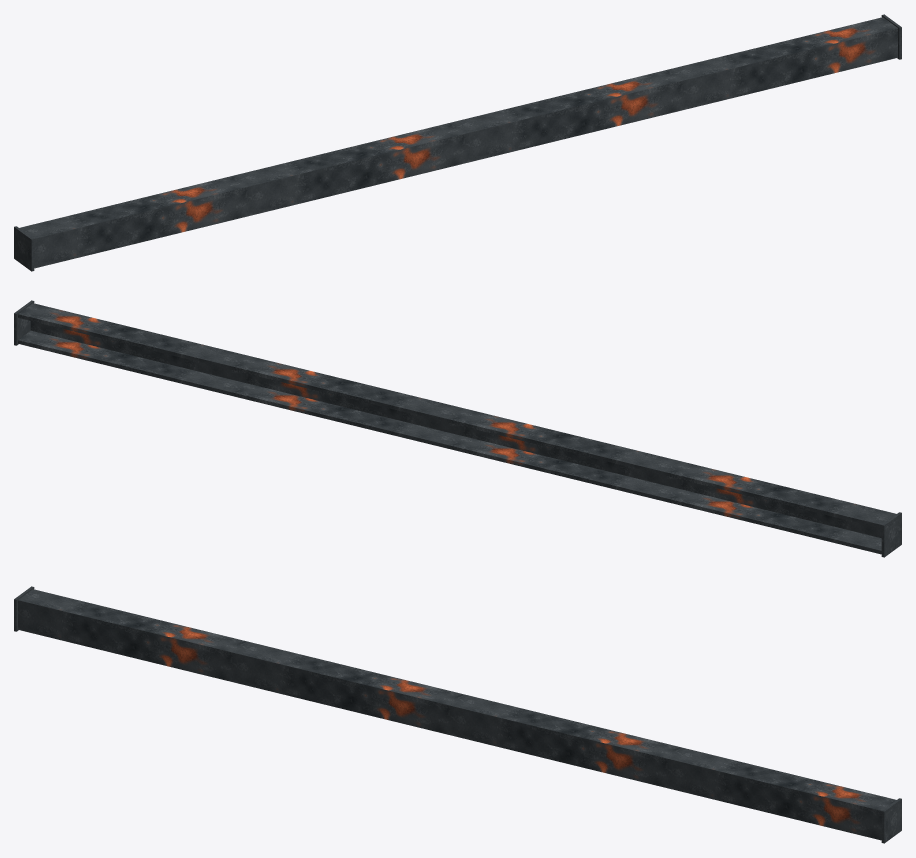
Rendered from SUPPORT_C_GIRT_4000.glb.
3 renders of one model, top to bottom at view 1: azimuth 30°, elevation 25°; view 2: azimuth 150°, elevation 25°; view 3: azimuth 330°, elevation 25°, orthographic.
Visible parts, largest first — view 1: SUPPORT_C_GIRT_4000__CChannel_4000, SUPPORT_C_GIRT_4000__EndCap_Left; view 2: SUPPORT_C_GIRT_4000__CChannel_4000, SUPPORT_C_GIRT_4000__EndCap_Left; view 3: SUPPORT_C_GIRT_4000__CChannel_4000, SUPPORT_C_GIRT_4000__EndCap_Right.
Part boxes in pixels (x1,y1,x2,y2): SUPPORT_C_GIRT_4000__CChannel_4000: [15, 17, 897, 268]; SUPPORT_C_GIRT_4000__EndCap_Left: [14, 226, 34, 271]; SUPPORT_C_GIRT_4000__CChannel_4000: [18, 303, 900, 554]; SUPPORT_C_GIRT_4000__EndCap_Left: [881, 512, 901, 557]; SUPPORT_C_GIRT_4000__CChannel_4000: [18, 589, 899, 840]; SUPPORT_C_GIRT_4000__EndCap_Right: [881, 798, 901, 843].
Size of the model in its own units: 4 by 0.14 by 0.14.
Materials: 1 (1 with a texture image).
